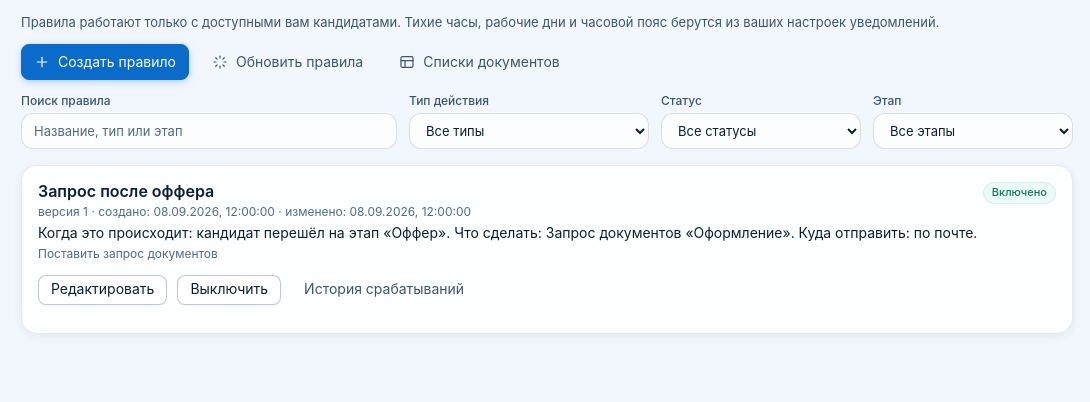
Test: Мои правила › filters by search text and shows a filtered-empty state
Expected: the heading "Запрос после оффера" is shown, x1=38 y1=181 x2=214 y2=201
Type "несуществующее" into the search field labelled "Поиск правила" at point(209, 131), box x1=21 y1=113 x2=397 y2=149
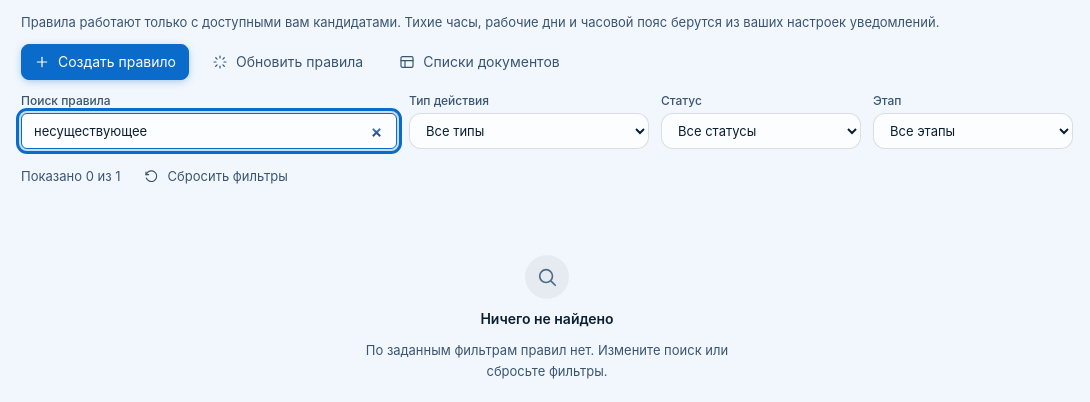
Expected: the text "Показано 0 из 1" is shown, x1=21 y1=167 x2=121 y2=186
Expected: the heading "Ничего не найдено" is shown, x1=480 y1=311 x2=614 y2=328
Expected: the heading "Запрос после оффера" is gone
Replace the text in the search field labelled "Поиск правила" with "оффера" at point(209, 131), box x1=21 y1=113 x2=397 y2=149
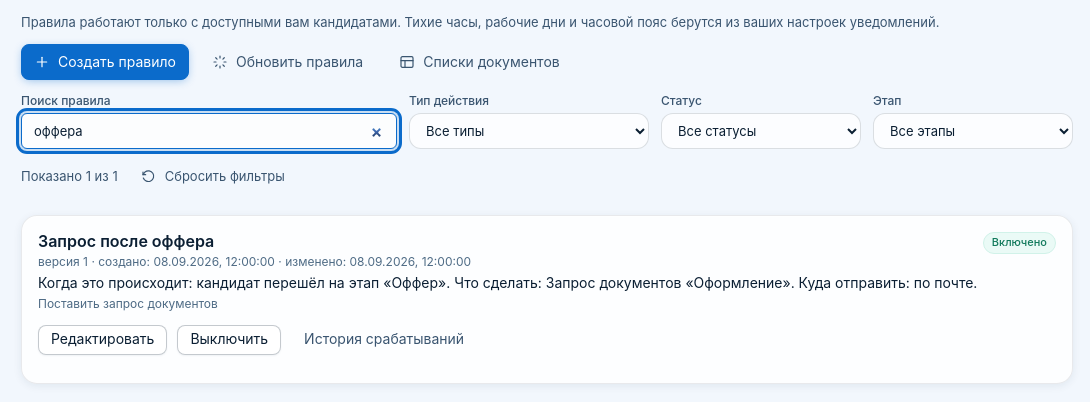
Expected: the heading "Запрос после оффера" is shown, x1=38 y1=231 x2=214 y2=251
Expected: the text "Показано 1 из 1" is shown, x1=21 y1=167 x2=118 y2=186
